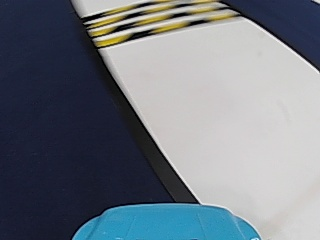bump: (97, 1, 225, 45)
